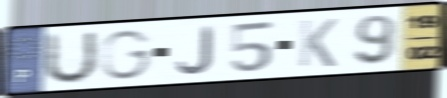5: (227, 19, 277, 75)
9: (351, 12, 396, 68)
G: (100, 28, 156, 82)
J: (174, 24, 215, 76)
K: (296, 17, 341, 69)
U: (40, 28, 100, 87)
